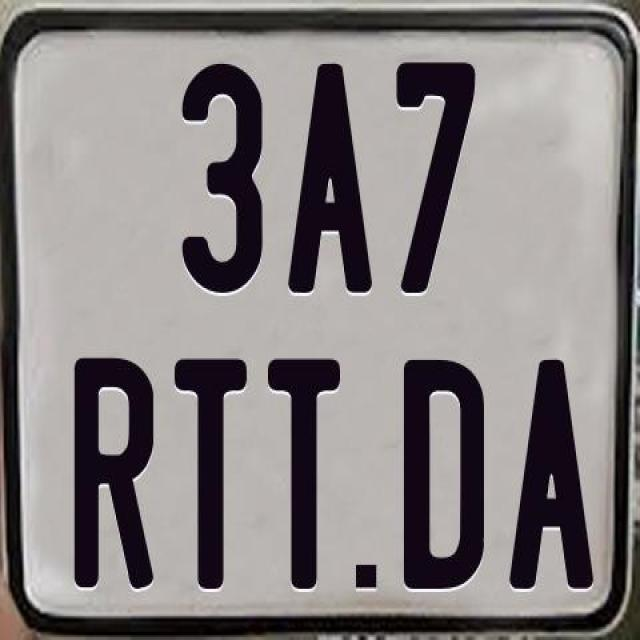3: (179, 61, 261, 291)
7: (393, 58, 475, 288)
A: (508, 358, 596, 596), (285, 63, 371, 295)
D: (404, 359, 486, 594)
R: (72, 354, 158, 586)
T: (267, 354, 341, 591), (171, 359, 245, 591)
